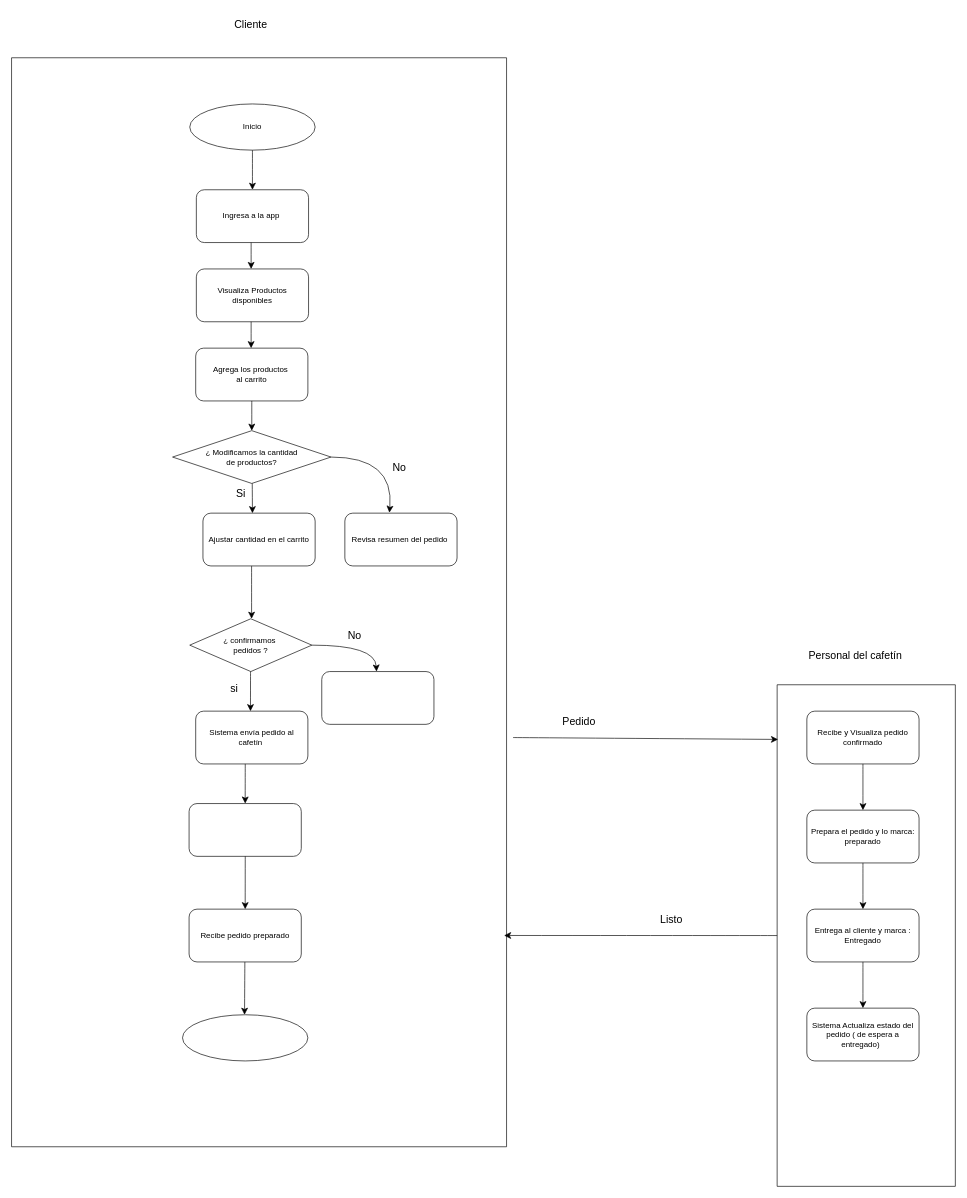
Image size: 967x1198. Some labels were removed from this diagram. The centre of each missing label's shape, as x and y in pixels:
Espera notificación de estrega: [244,829]
Fin: [245,1037]
Los productos siguen en el carrito: [377,697]
